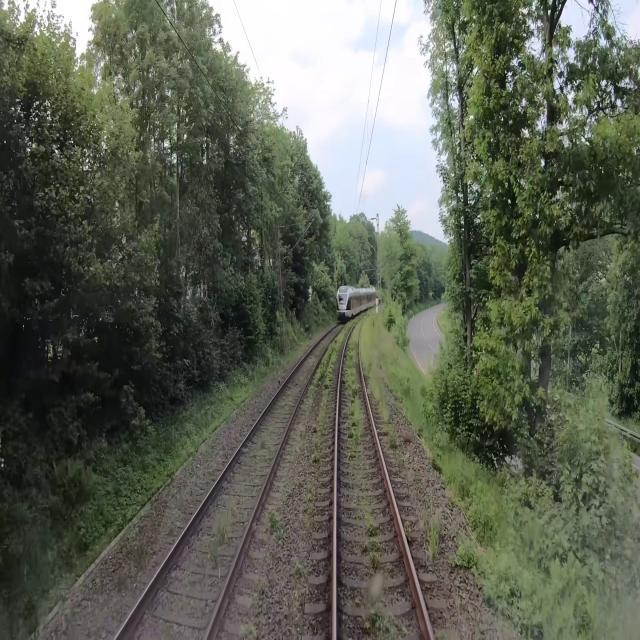Plant: (291, 319, 355, 470), (360, 311, 398, 449), (354, 482, 396, 576), (342, 316, 366, 460), (356, 585, 416, 639), (208, 499, 238, 569), (421, 515, 440, 564), (266, 506, 282, 540)
